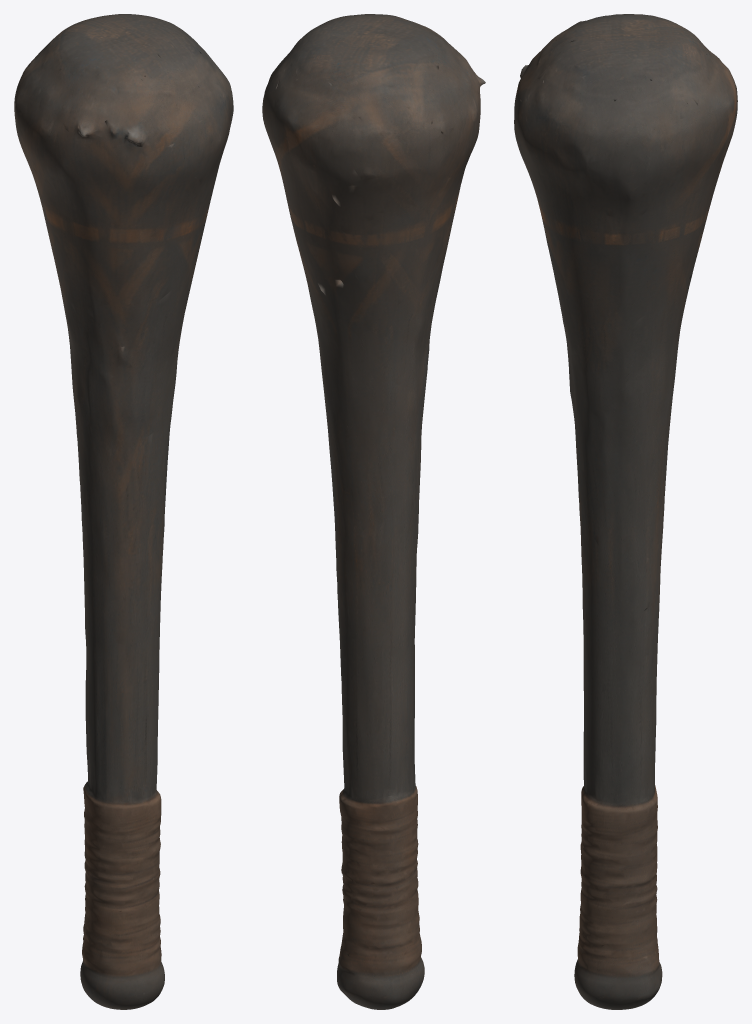
Rendered from Wood Club.fbx.
3 renders of one model, left to right at view 1: azimuth 30°, elevation 25°; view 2: azimuth 150°, elevation 25°; view 3: azimuth 270°, elevation 25°, orthographic.
Parts seen in each view (by area): view 1: Mesh_0; view 2: Mesh_0; view 3: Mesh_0.
Part boxes in pixels (x1,y1,x2,y2): Mesh_0: [14, 14, 233, 1009]; Mesh_0: [262, 14, 485, 1009]; Mesh_0: [514, 14, 737, 1009].
Size of the model in its own units: 41.08 by 200 by 41.73.
Materials: 1 (1 with a texture image).
